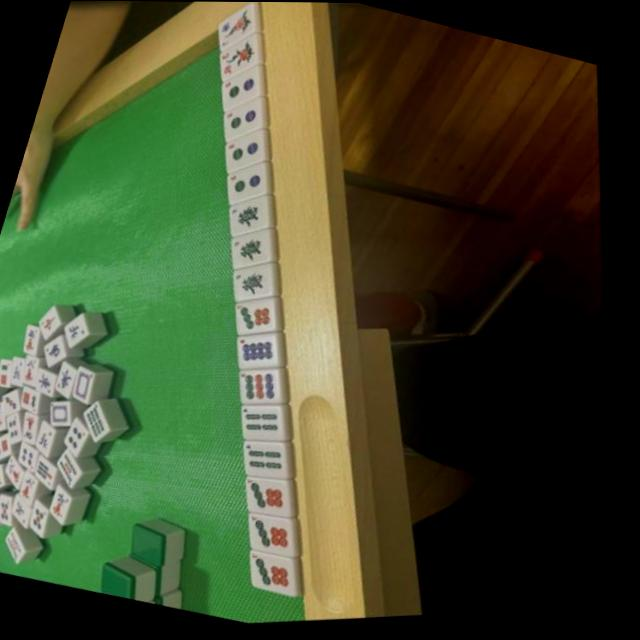bf3: (218, 6, 272, 56)
bs3: (218, 37, 276, 91)
hdg: (232, 263, 286, 312), (231, 230, 283, 277), (229, 199, 279, 244)
sb4: (241, 437, 301, 490), (241, 402, 297, 451)
sd2: (227, 165, 279, 209), (227, 135, 279, 178), (226, 104, 277, 147), (224, 73, 273, 115)
sd7: (246, 547, 310, 606), (242, 508, 307, 566), (242, 472, 301, 526), (233, 298, 290, 349)
sd8: (235, 330, 292, 380)
sd9: (235, 364, 294, 417)
